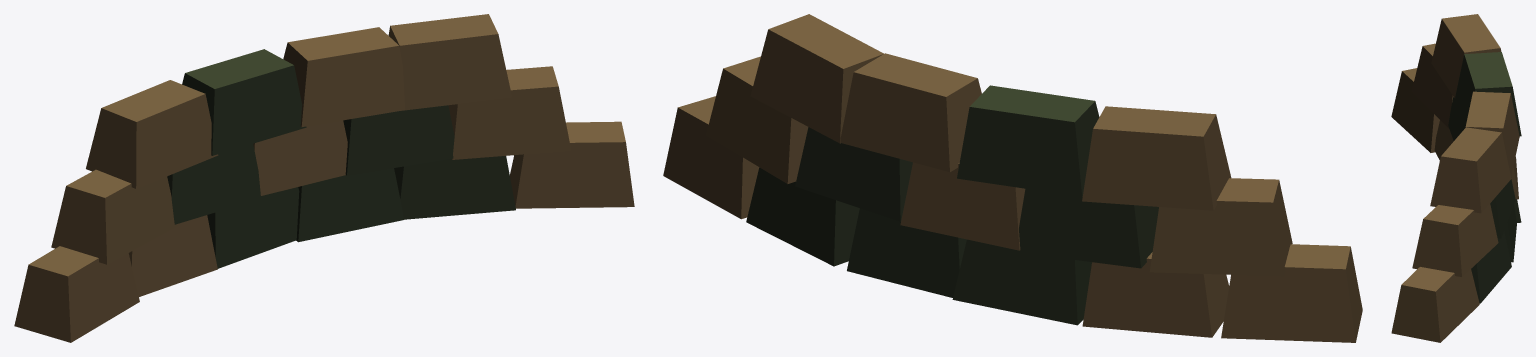
Rendered from hollis_sandbags.glb.
3 views of the same model, side by side, from view 1: azimuth 30°, elevation 25°; view 2: azimuth 150°, elevation 25°; view 3: azimuth 270°, elevation 25° (orthographic). The views are drawn at different scales.
Visible parts, largest first — view 1: hollis_sandbags; view 2: hollis_sandbags; view 3: hollis_sandbags.
Boxes of the visible parts, x1,y1,x2,y2 form: hollis_sandbags: (14,14,634,342); hollis_sandbags: (663,14,1362,342); hollis_sandbags: (1391,14,1521,342).
Size of the model in its own units: 3.07 by 0.8417 by 0.7221.
